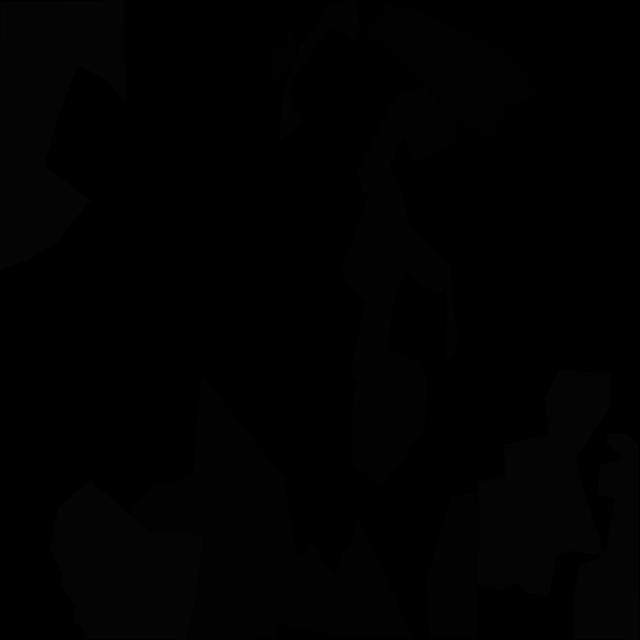cardboard: (192, 373, 479, 639), (340, 186, 458, 487), (130, 476, 278, 640), (356, 87, 458, 225), (279, 0, 361, 142)
rigid_plastic: (367, 2, 540, 139), (269, 2, 294, 83)
soft_plastic: (0, 0, 126, 269), (477, 401, 606, 596), (50, 480, 204, 640), (573, 433, 639, 640), (544, 368, 611, 458)
